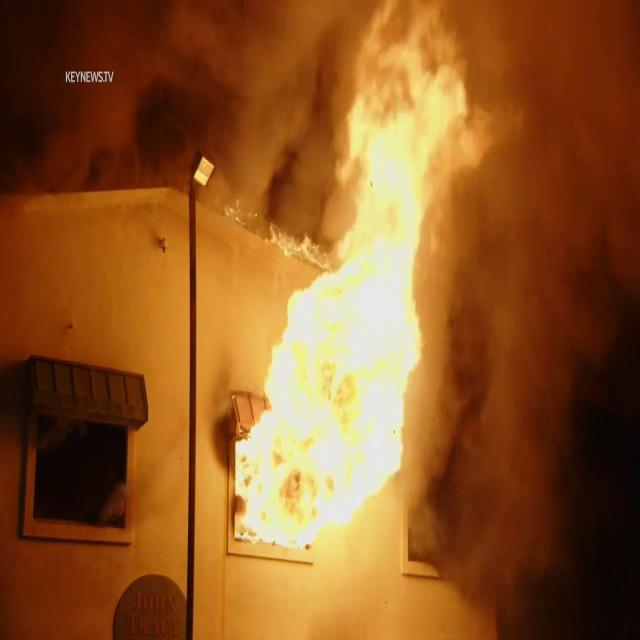Fire: (221, 3, 489, 554)
Smoke: (434, 1, 640, 568), (15, 2, 340, 205)
